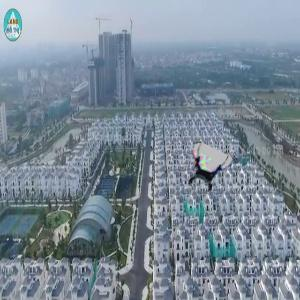drone: (184, 148, 231, 195)
